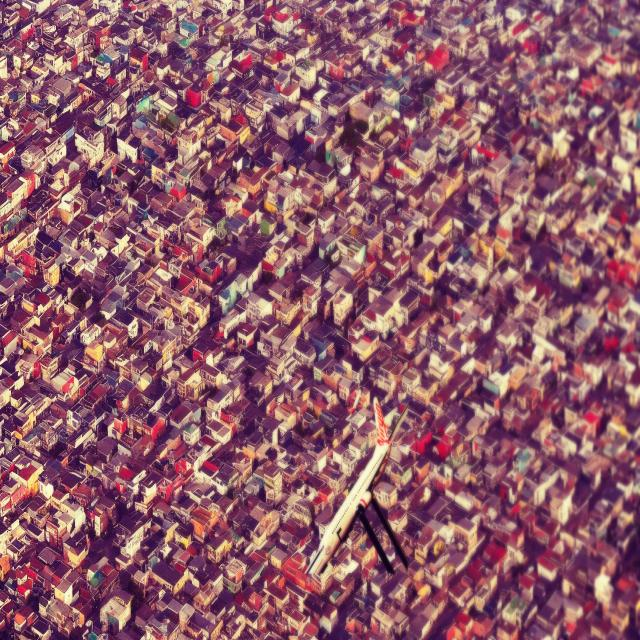airplane: (303, 396, 410, 581)
